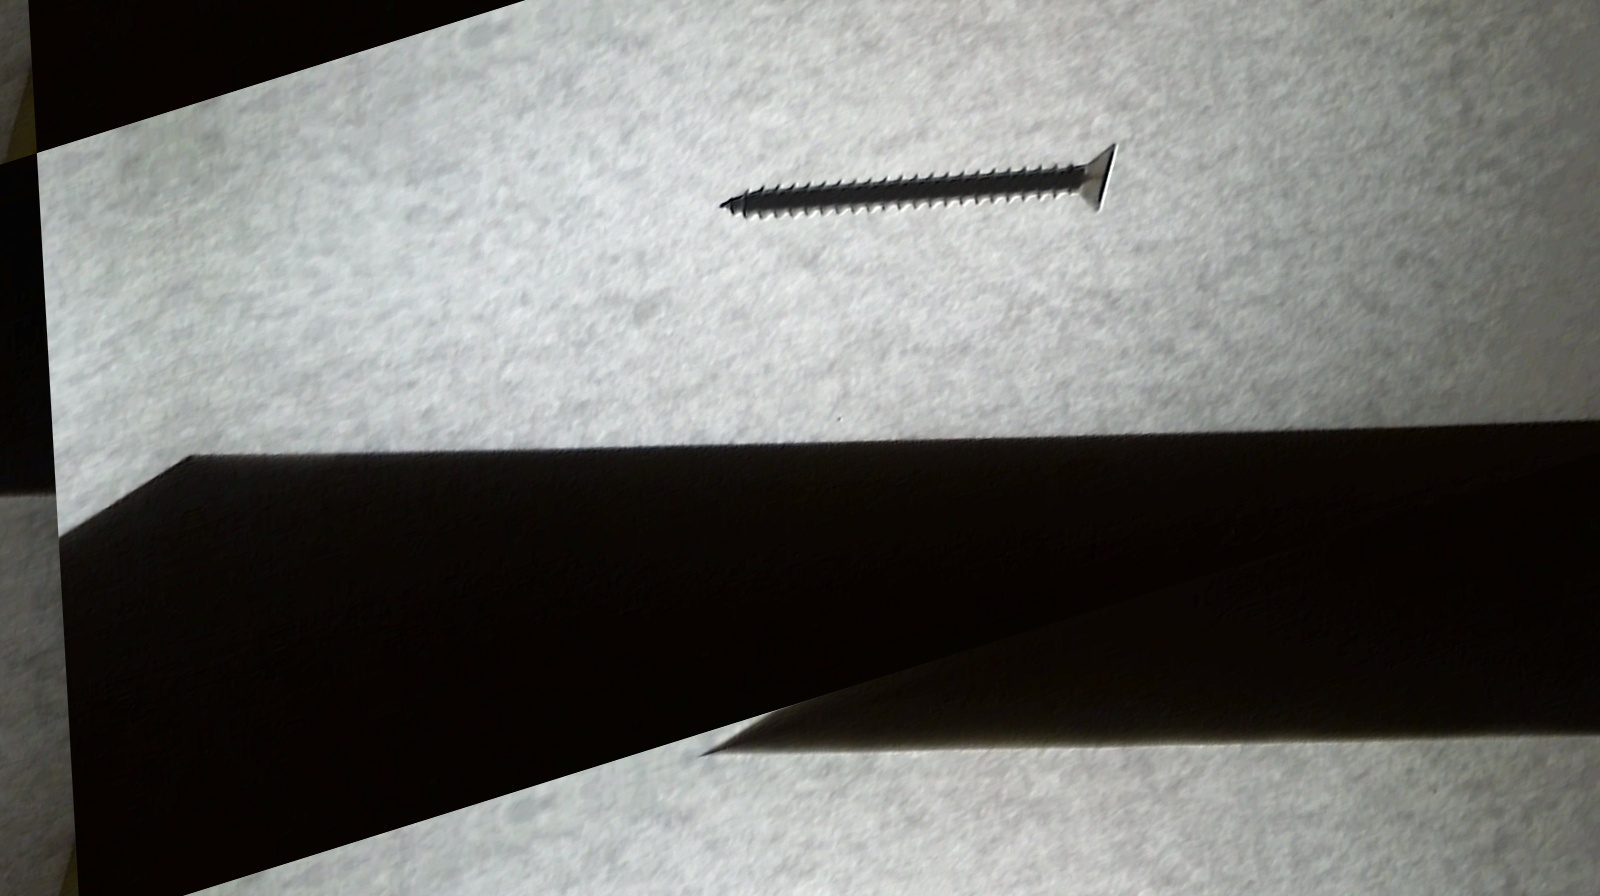S002: (705, 59, 1125, 340)
